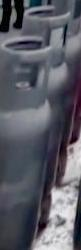cylinder: (1, 1, 81, 250)
